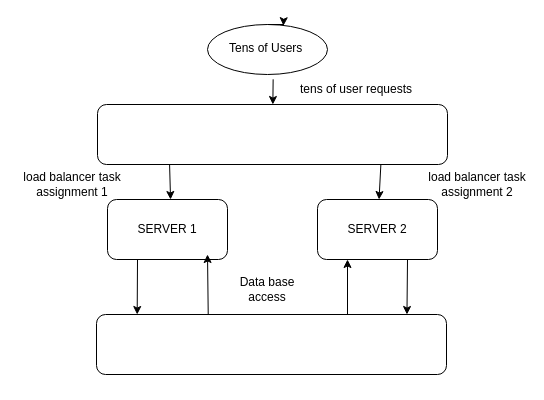
The diagram is 544 pixels wide and 400 high, and some of its shapes have lost their labels. The shapes that lost their labels are listed below. From the top down, each one's centre as x and y in pixels, then its label:
At (x=272, y=134): "LOAD BALANCER".
At (x=271, y=344): "DATABASE".
